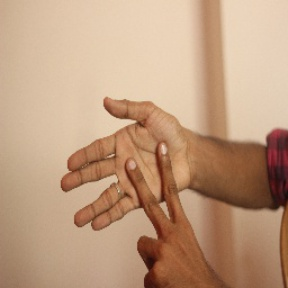N: (56, 94, 206, 288)
